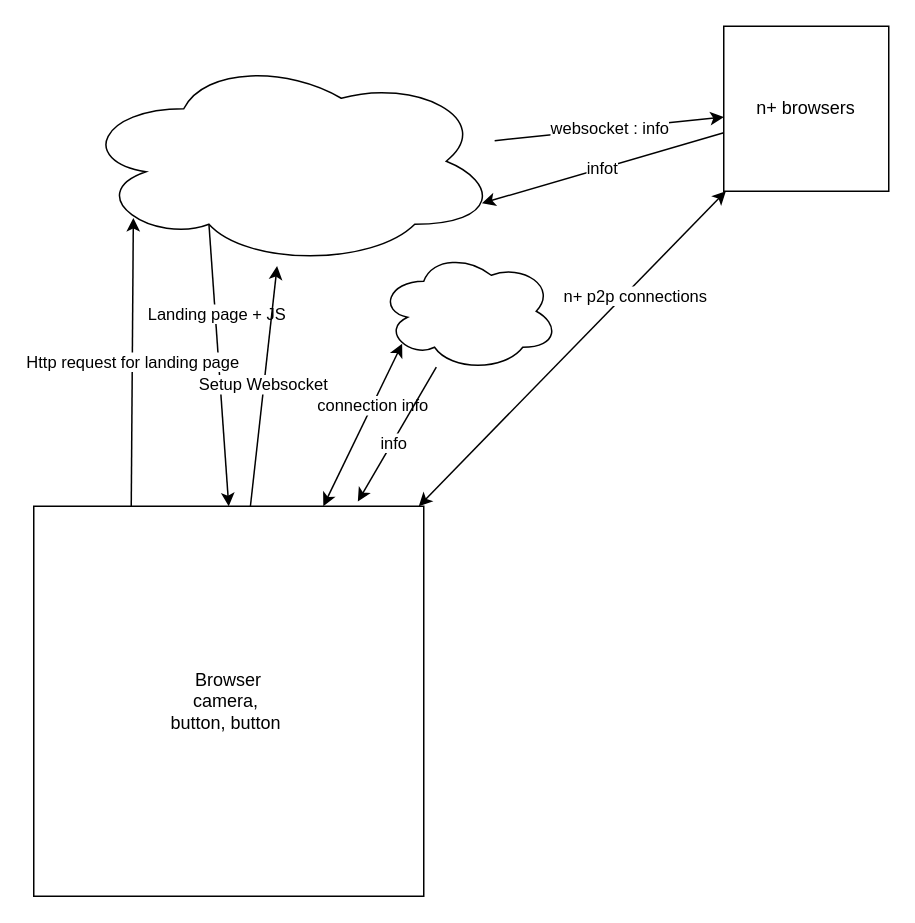
Some shapes in this 915 by 923 pixel diagram are drawn without their labels. The box of each missing label's shape, as (x1, y1, x2, y2) in pixels:
AWS -Route53 -DynamoDB -APIGateway: (77, 55, 499, 266)
STUN: (377, 250, 559, 371)
